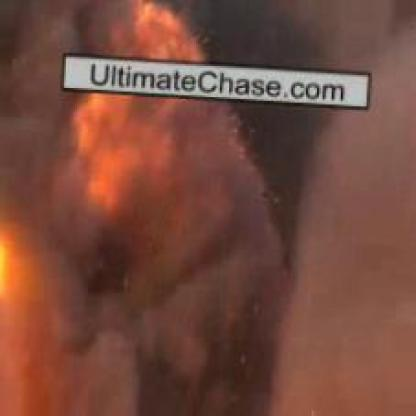fire: (64, 6, 212, 216)
smoke: (138, 157, 396, 399)
